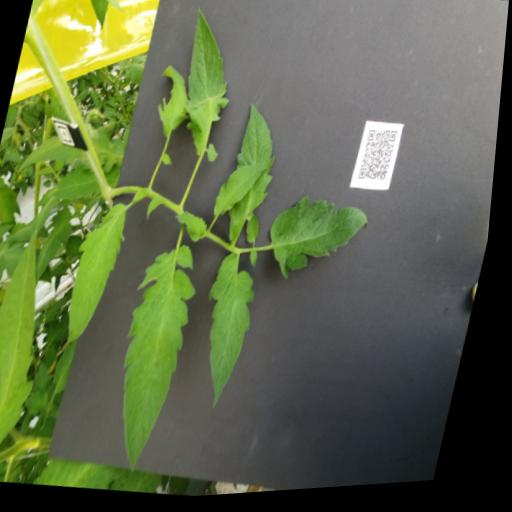Healthy: (106, 240, 211, 478), (0, 220, 73, 486), (166, 6, 252, 168), (191, 253, 272, 415), (264, 190, 380, 293), (64, 200, 137, 350), (222, 104, 292, 252), (37, 205, 81, 287), (216, 163, 270, 224), (247, 214, 268, 247)
